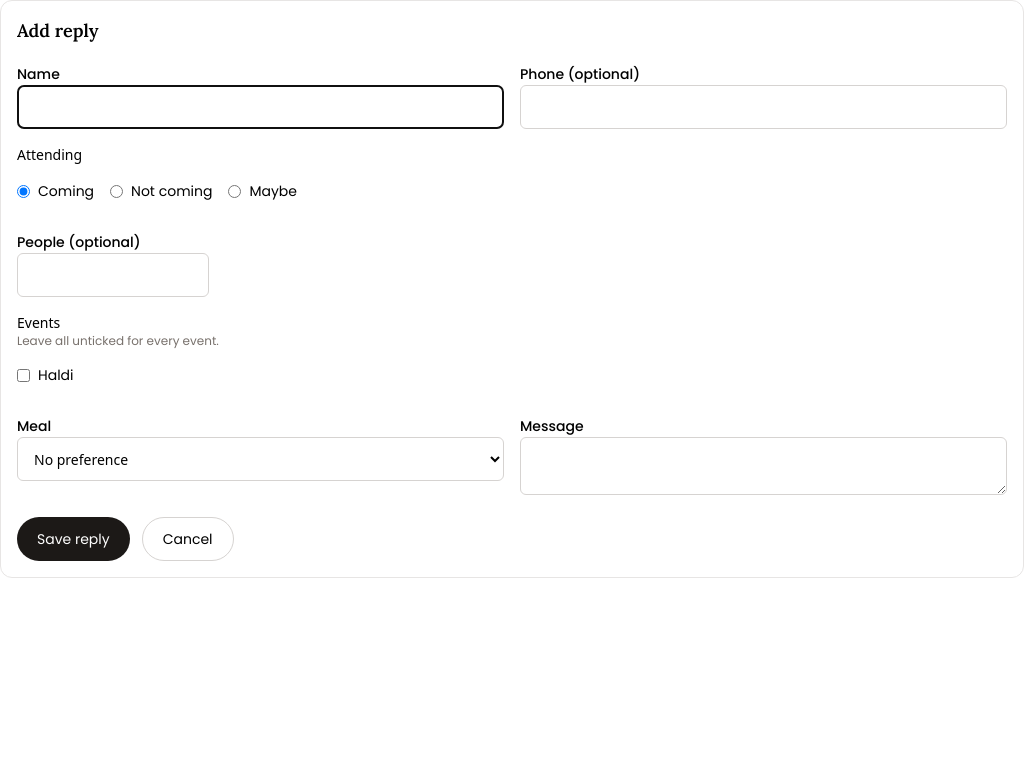
Test case: RsvpForm › requires a name
Step 1. Click the button "Save reply" → (73,539), box left=17, top=517, right=130, bottom=561
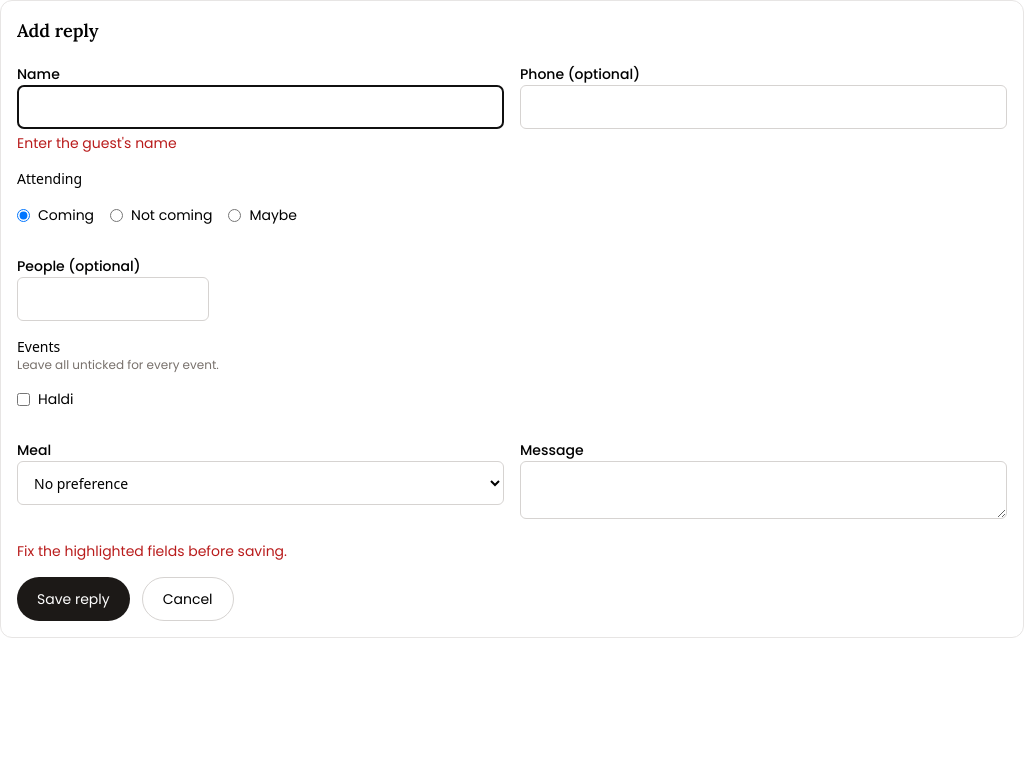
Now the text "Enter the guest's name" is shown, box left=17, top=133, right=177, bottom=153
Now the message shows "Fix the highlighted fields", box left=17, top=541, right=287, bottom=561
